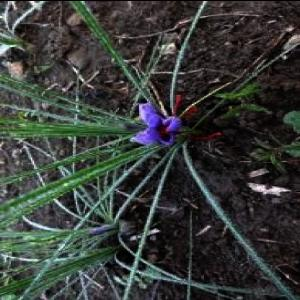Saffron: (131, 102, 181, 146)
